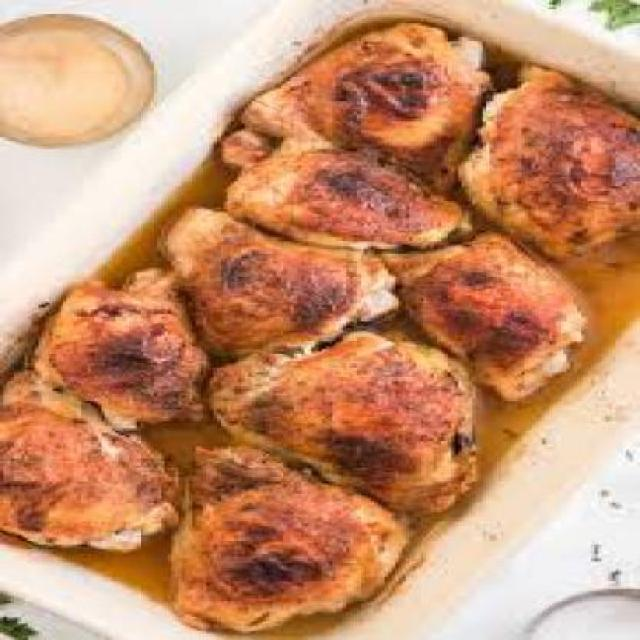Frango: (17, 30, 637, 627)
